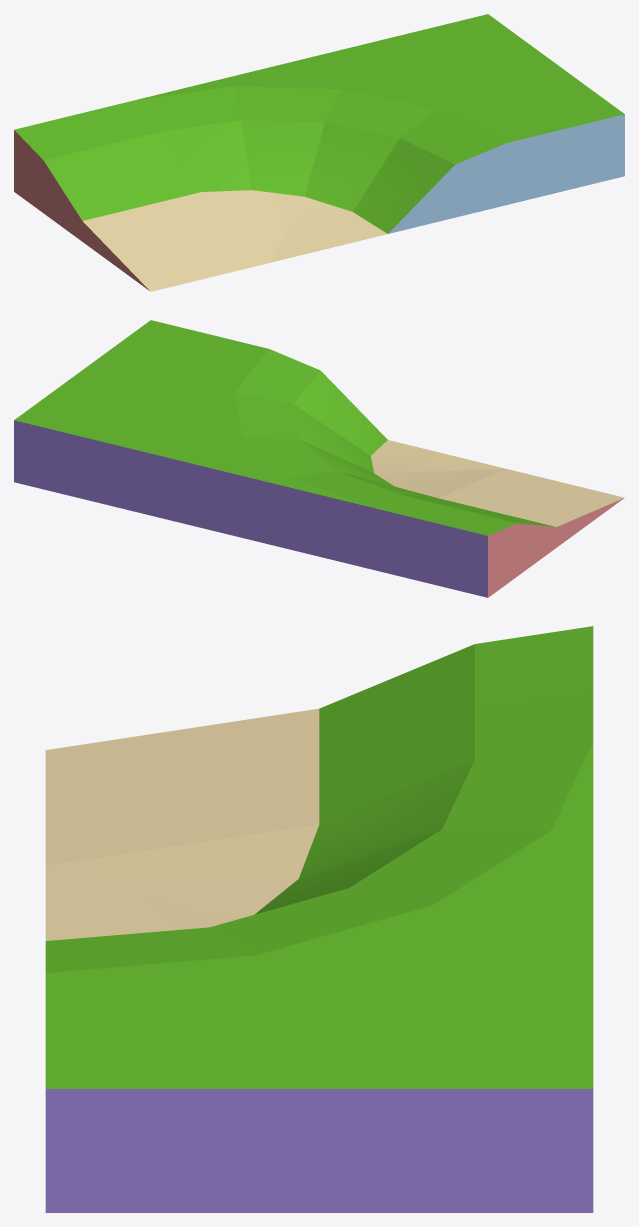
Rendered from Tiered_Walkway_Step_Top_Path_Transition_1x2.glb.
3 views of the same model, one above another, from view 1: azimuth 30°, elevation 25°; view 2: azimuth 150°, elevation 25°; view 3: azimuth 270°, elevation 25° (orthographic). The views are drawn at different scales.
Parts seen in each view (by area): view 1: Tiered_Walkway_Step_Top_Path_Transition_1x2; view 2: Tiered_Walkway_Step_Top_Path_Transition_1x2; view 3: Tiered_Walkway_Step_Top_Path_Transition_1x2.
Boxes of the visible parts, x1,y1,x2,y2 form: Tiered_Walkway_Step_Top_Path_Transition_1x2: [14, 14, 624, 291]; Tiered_Walkway_Step_Top_Path_Transition_1x2: [14, 320, 624, 597]; Tiered_Walkway_Step_Top_Path_Transition_1x2: [45, 626, 593, 1212].
Size of the model in its own units: 200 by 25 by 100.
